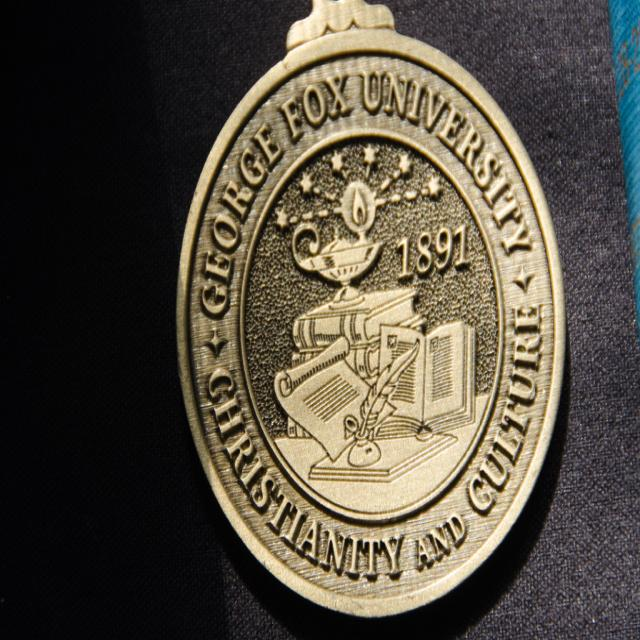Coin: (180, 36, 568, 624)
